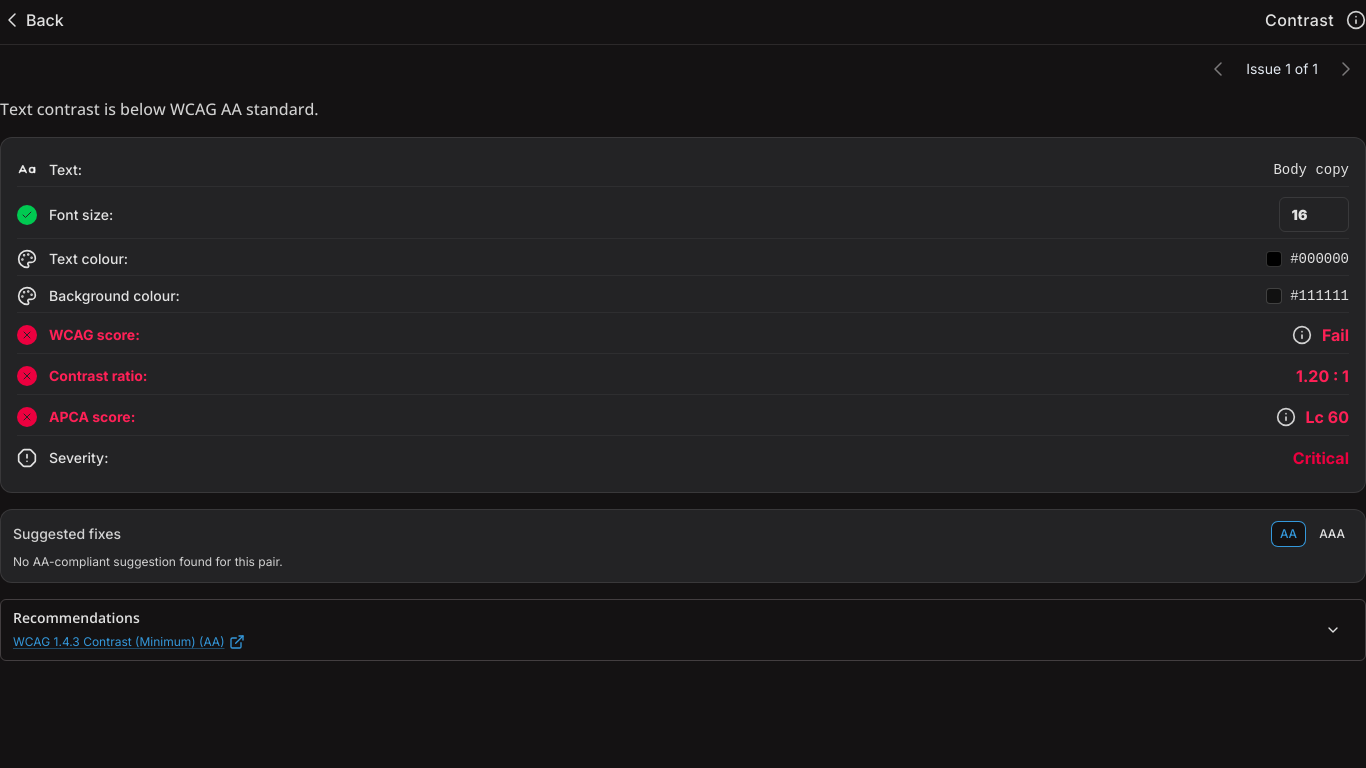
Test: IssuesNavigator › APCA score row › does not show a disagreement explanation when both methods agree
Click the button named "More info" next to "Lc": coordinates (1282, 417) x1=1268 y1=407 x2=1296 y2=427
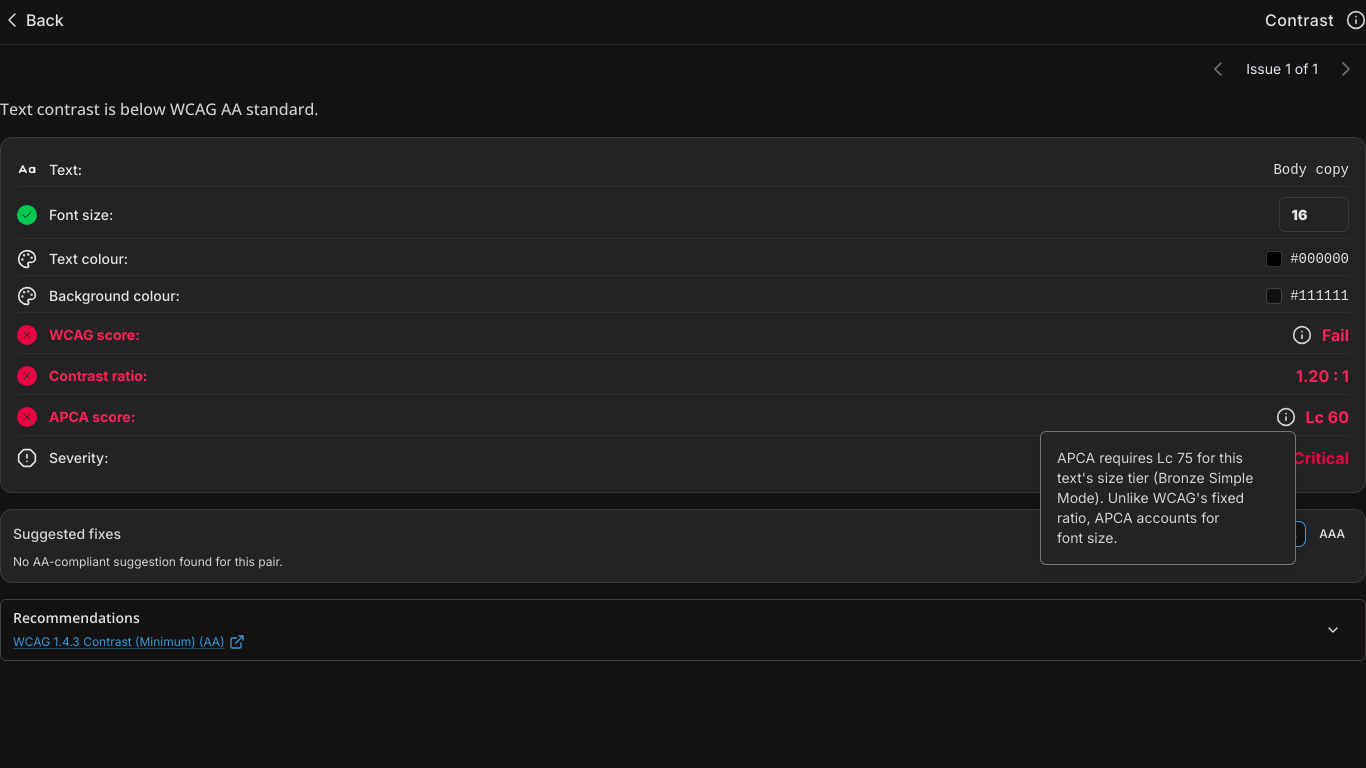
expect the text "Unlike WCAG's fixed ratio, APCA accounts for font size." is shown: met, box x1=1057 y1=449 x2=1253 y2=546
